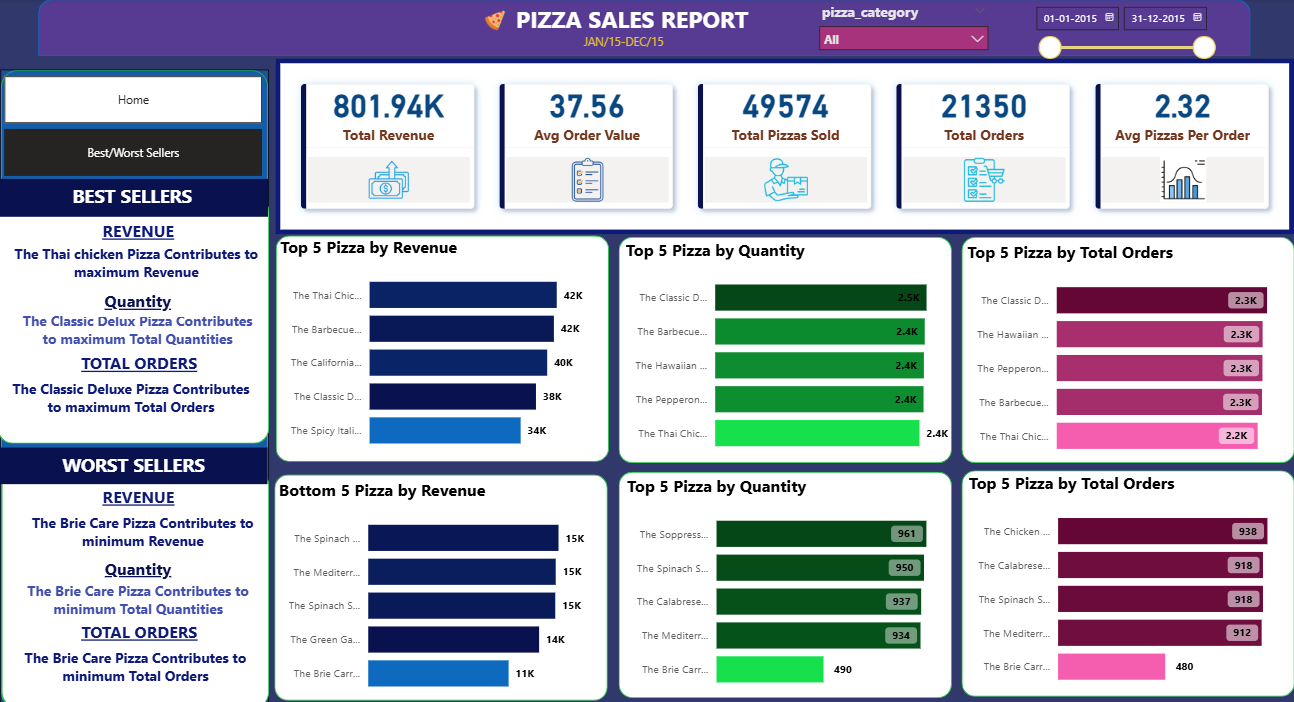

The dashboard page shown, as its layout file describes it:
{"tool":"powerbi","page":{"name":"Best/Worst Sellers","canvas":[1500,820],"ordinal":1},"visuals":[{"type":"cardVisual","fields":{"Data":["pizza_sales.Total Revenue","pizza_sales.Avg Order Value","pizza_sales.Total Pizzas Sold","pizza_sales.Total Orders","pizza_sales.Avg Pizzas Per Order"]},"box":[323.9,70.1,1175.7,202.4],"z":0},{"type":"group","id":"g1","title":"Group 2","box":[3.9,228.2,313,285],"z":0,"group":"g5"},{"type":"group","id":"g2","title":"Group 2","box":[8.2,545.8,308.3,272.5],"z":0,"group":"g6"},{"type":"shape","box":[6.3,82.2,309.9,738.4],"z":1000},{"type":"textbox","box":[1.6,208.7,313.5,43.6],"z":1000,"group":"g5"},{"type":"textbox","box":[4.7,518.9,309.9,42.1],"z":1000,"group":"g6"},{"type":"shape","box":[49.8,1.6,1398.4,65.4],"z":2000},{"type":"shape","box":[324.2,274.6,384.2,260.9],"z":2000,"group":"g3"},{"type":"textbox","box":[7.8,434.4,297.9,70.1],"z":2000,"group":"g5"},{"type":"shape","box":[322.6,550.3,384.2,260.9],"z":2000,"group":"g4"},{"type":"textbox","box":[12.5,744,299,76.3],"z":2000,"group":"g6"},{"type":"shape","box":[719.5,275.1,384.2,260.9],"z":3000},{"type":"textbox","box":[19.4,356.6,291.6,73.2],"z":3000,"group":"g5"},{"type":"textbox","box":[20.4,667.7,289.5,76],"z":3000,"group":"g6"},{"type":"textbox","box":[588.2,0,292.5,49],"z":4000},{"type":"textbox","box":[84.4,402.7,164.5,40],"z":4000,"group":"g5"},{"type":"textbox","box":[84.1,713.6,165.1,42],"z":4000,"group":"g6"},{"type":"textbox","box":[659.4,36.4,132.8,34.8],"z":5000},{"type":"textbox","box":[99.7,331,130.2,36],"z":5000,"group":"g5"},{"type":"textbox","box":[99.2,640.1,130.7,37.4],"z":5000,"group":"g6"},{"type":"image","box":[558.2,14.2,37.9,23.7],"z":6000},{"type":"shape","box":[3.9,228.2,313,285],"z":6000,"group":"g1"},{"type":"shape","box":[8.2,545.8,308.3,272.5],"z":6000,"group":"g2"},{"type":"slicer","fields":{"Values":["pizza_sales.pizza_category"]},"box":[940.6,0,214.9,62.3],"z":7000},{"type":"slicer","fields":{"Values":["pizza_sales.order_date"]},"box":[1188.2,0,227.4,90.3],"z":8000},{"type":"group","id":"g3","title":"Group 1","box":[324.2,274.6,384.2,260.9],"z":10000},{"type":"textbox","box":[14.8,277.8,297.9,71.6],"z":11000,"group":"g1"},{"type":"group","id":"g4","title":"Group 1","box":[322.6,550.3,384.2,260.9],"z":11000},{"type":"textbox","box":[28.5,588.7,284.8,76],"z":11000,"group":"g2"},{"type":"shape","box":[719.5,547.1,384.2,260.9],"z":12000},{"type":"shape","box":[1114.8,545.5,384.2,260.9],"z":13000},{"type":"textbox","box":[101.9,249.9,128.1,38.4],"z":14000,"group":"g1"},{"type":"shape","box":[1114.8,275.1,384.2,260.9],"z":14000},{"type":"textbox","box":[101.5,557.8,128.6,39.9],"z":14000,"group":"g2"},{"type":"barChart","title":"Top 5 Pizza by Revenue","fields":{"Category":["pizza_sales.pizza_name"],"Y":["pizza_sales.Total Revenue"]},"box":[323.5,274.1,382,261.4],"z":15000},{"type":"barChart","title":"Bottom 5 Pizza by Revenue","fields":{"Category":["pizza_sales.pizza_name"],"Y":["pizza_sales.Total Revenue"]},"box":[321.7,553.8,382,261.3],"z":16000},{"type":"barChart","title":"Top 5 Pizza by Quantity","fields":{"Category":["pizza_sales.pizza_name"],"Y":["pizza_sales.Total Pizzas Sold"]},"box":[721.9,277.8,382,261.3],"z":17000},{"type":"barChart","title":"Top 5 Pizza by Quantity","fields":{"Category":["pizza_sales.pizza_name"],"Y":["pizza_sales.Total Pizzas Sold"]},"box":[723.7,550.1,382,261.3],"z":18000},{"type":"barChart","title":"Top 5 Pizza by Total Orders","fields":{"Category":["pizza_sales.pizza_name"],"Y":["pizza_sales.Total Orders"]},"box":[1116.7,279.6,382,261.3],"z":19000},{"type":"barChart","title":"Top 5 Pizza by Total Orders","fields":{"Category":["pizza_sales.pizza_name"],"Y":["pizza_sales.Total Orders"]},"box":[1118,546.5,382,261.3],"z":20000},{"type":"group","id":"g5","title":"Group 3","box":[1.6,208.7,315.3,304.4],"z":21000},{"type":"group","id":"g6","title":"Group 3","box":[4.7,518.9,311.8,301.4],"z":22000},{"type":"pageNavigator","box":[10.9,151.1,297.4,54.5],"z":23000},{"type":"pageNavigator","box":[10.9,90.3,297.4,54.5],"z":24000}]}

Visuals, with their boxes in screenshot pixels (x1, y1, x2, y2), scaled from the page's 1500x820 canvas onto the 1294x702 screenshot:
cardVisual - pizza_sales.Total Revenue x pizza_sales.Avg Order Value: [left=279, top=60, right=1293, bottom=233]
"Group 2" group: [left=3, top=195, right=273, bottom=439]
"Group 2" group: [left=7, top=467, right=273, bottom=701]
shape: [left=5, top=70, right=273, bottom=701]
textbox: [left=1, top=179, right=272, bottom=216]
textbox: [left=4, top=444, right=271, bottom=480]
shape: [left=43, top=1, right=1249, bottom=57]
shape: [left=280, top=235, right=611, bottom=458]
textbox: [left=7, top=372, right=264, bottom=432]
shape: [left=278, top=471, right=610, bottom=694]
textbox: [left=11, top=637, right=269, bottom=701]
shape: [left=621, top=236, right=952, bottom=459]
textbox: [left=17, top=305, right=268, bottom=368]
textbox: [left=18, top=572, right=267, bottom=637]
textbox: [left=507, top=0, right=760, bottom=42]
textbox: [left=73, top=345, right=215, bottom=379]
textbox: [left=73, top=611, right=215, bottom=647]
textbox: [left=569, top=31, right=683, bottom=61]
textbox: [left=86, top=283, right=198, bottom=314]
textbox: [left=86, top=548, right=198, bottom=580]
image: [left=482, top=12, right=514, bottom=32]
shape: [left=3, top=195, right=273, bottom=439]
shape: [left=7, top=467, right=273, bottom=701]
slicer - pizza_sales.pizza_category: [left=811, top=0, right=997, bottom=53]
slicer - pizza_sales.order_date: [left=1025, top=0, right=1221, bottom=77]
"Group 1" group: [left=280, top=235, right=611, bottom=458]
textbox: [left=13, top=238, right=270, bottom=299]
"Group 1" group: [left=278, top=471, right=610, bottom=694]
textbox: [left=25, top=504, right=270, bottom=569]
shape: [left=621, top=468, right=952, bottom=692]
shape: [left=962, top=467, right=1293, bottom=690]
textbox: [left=88, top=214, right=198, bottom=247]
shape: [left=962, top=236, right=1293, bottom=459]
textbox: [left=88, top=478, right=198, bottom=512]
"Top 5 Pizza by Revenue" barChart: [left=279, top=235, right=609, bottom=458]
"Bottom 5 Pizza by Revenue" barChart: [left=278, top=474, right=607, bottom=698]
"Top 5 Pizza by Quantity" barChart: [left=623, top=238, right=952, bottom=462]
"Top 5 Pizza by Quantity" barChart: [left=624, top=471, right=954, bottom=695]
"Top 5 Pizza by Total Orders" barChart: [left=963, top=239, right=1293, bottom=463]
"Top 5 Pizza by Total Orders" barChart: [left=964, top=468, right=1293, bottom=692]
"Group 3" group: [left=1, top=179, right=273, bottom=439]
"Group 3" group: [left=4, top=444, right=273, bottom=701]
pageNavigator: [left=9, top=129, right=266, bottom=176]
pageNavigator: [left=9, top=77, right=266, bottom=124]
